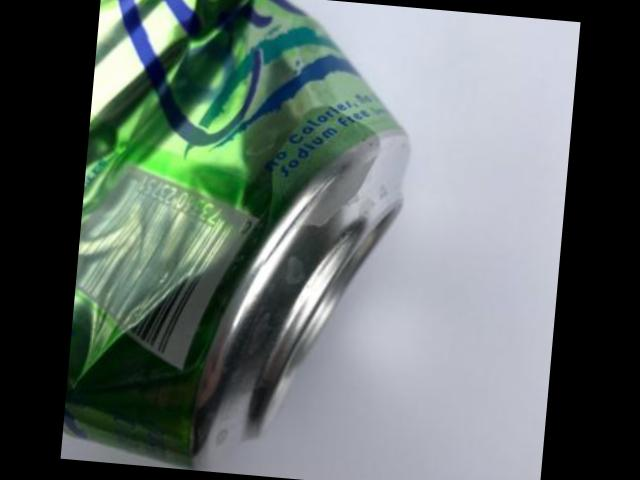metal: (63, 0, 409, 466)
